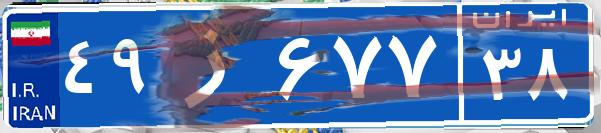3: (475, 38, 525, 113)
4: (57, 26, 110, 107)
6: (273, 28, 330, 110)
7: (385, 28, 445, 110), (330, 28, 385, 110)
8: (525, 38, 570, 115)
9: (110, 28, 158, 105)
ز: (158, 15, 273, 115)
